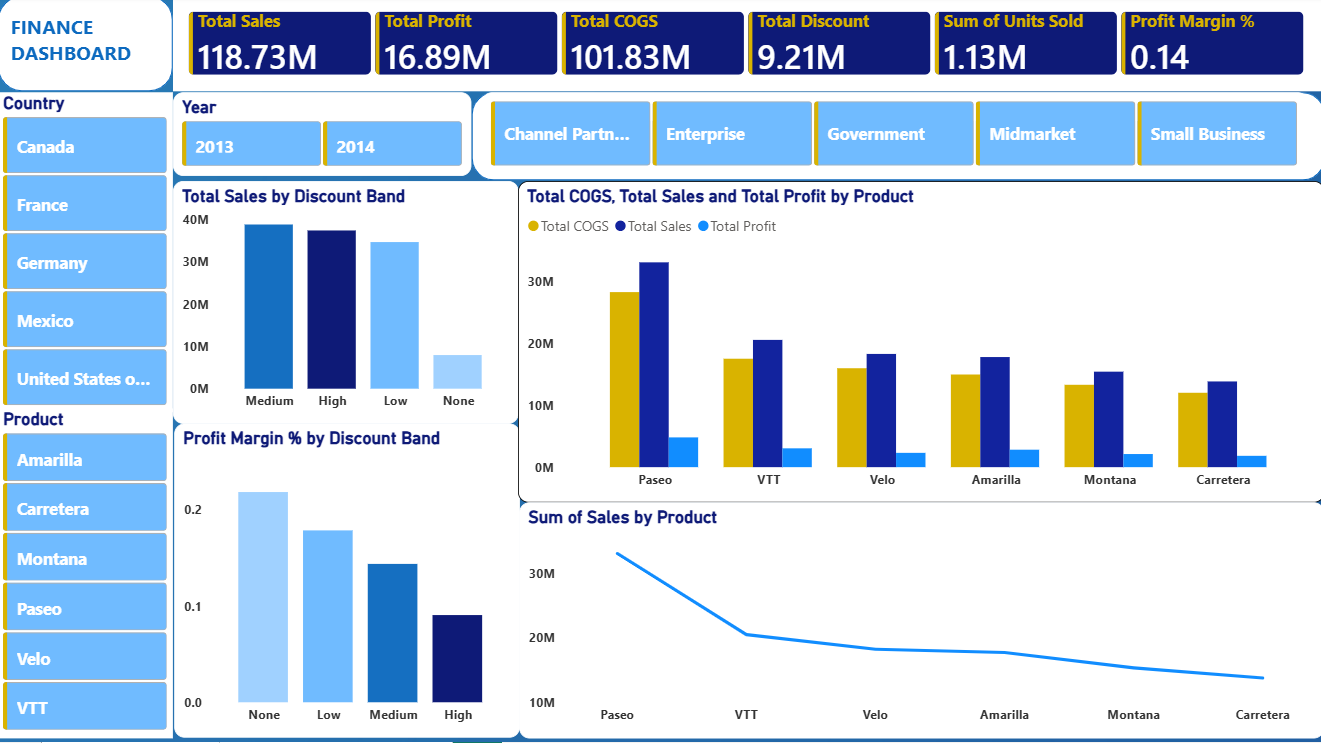

The dashboard page shown, as its layout file describes it:
{"tool":"powerbi","page":{"name":"PAGE 2 Finance Dashboard","canvas":[1280,720],"ordinal":1},"visuals":[{"type":"cardVisual","fields":{"Data":["financials.Total Sales","financials.Total Profit","financials.Total COGS","financials.Total Discount","Sum(financials.Units Sold)","financials.Profit Margin %"]},"box":[168.8,0,1111.5,91.9],"z":0},{"type":"shape","box":[0,0,168.8,91.9],"z":1000},{"type":"advancedSlicerVisual","fields":{"Values":["financials.Country"]},"box":[0,93.3,168.8,308.7],"z":2000},{"type":"advancedSlicerVisual","fields":{"Values":["financials.Date.Variation.Date Hierarchy.Year"]},"box":[168.8,93.3,288.2,81],"z":3000},{"type":"advancedSlicerVisual","fields":{"Values":["financials.Product"]},"box":[0,397.9,168.8,318.4],"z":4000},{"type":"shape","box":[456.9,93.3,823.3,85.1],"z":5000},{"type":"columnChart","fields":{"Category":["financials.Discount Band"],"Y":["financials.Total Sales"]},"box":[168.8,178.4,333.4,234.6],"z":6000},{"type":"columnChart","fields":{"Category":["financials.Discount Band"],"Y":["financials.Profit Margin %"]},"box":[170.2,413,333.4,303.3],"z":7000},{"type":"clusteredColumnChart","fields":{"Category":["financials.Product"],"Y":["financials.Total COGS","financials.Total Sales","financials.Total Profit"]},"box":[502.2,178.4,778,310.1],"z":8000},{"type":"lineChart","fields":{"Y":["Sum(financials.Sales)"],"Category":["financials.Product"]},"box":[503.6,488.5,776.7,227.8],"z":9000},{"type":"textbox","box":[6.9,12.3,142.7,67.2],"z":10000},{"type":"advancedSlicerVisual","fields":{"Values":["financials.Segment"]},"box":[466.6,93.3,797.3,81],"z":11000}]}

Visuals, with their boxes in screenshot pixels (x1, y1, x2, y2), scaled from the page's 1280x720 canvas onto the 1321x743 screenshot:
cardVisual - financials.Total Sales x financials.Total Profit: 174/0/1320/95
shape: 0/0/174/95
advancedSlicerVisual - financials.Country: 0/96/174/415
advancedSlicerVisual - financials.Date.Variation.Date Hierarchy.Year: 174/96/472/180
advancedSlicerVisual - financials.Product: 0/411/174/739
shape: 472/96/1320/184
columnChart - financials.Discount Band x financials.Total Sales: 174/184/518/426
columnChart - financials.Discount Band x financials.Profit Margin %: 176/426/520/739
clusteredColumnChart - financials.Product x financials.Total COGS: 518/184/1320/504
lineChart - Sum(financials.Sales) x financials.Product: 520/504/1320/739
textbox: 7/13/154/82
advancedSlicerVisual - financials.Segment: 482/96/1304/180
